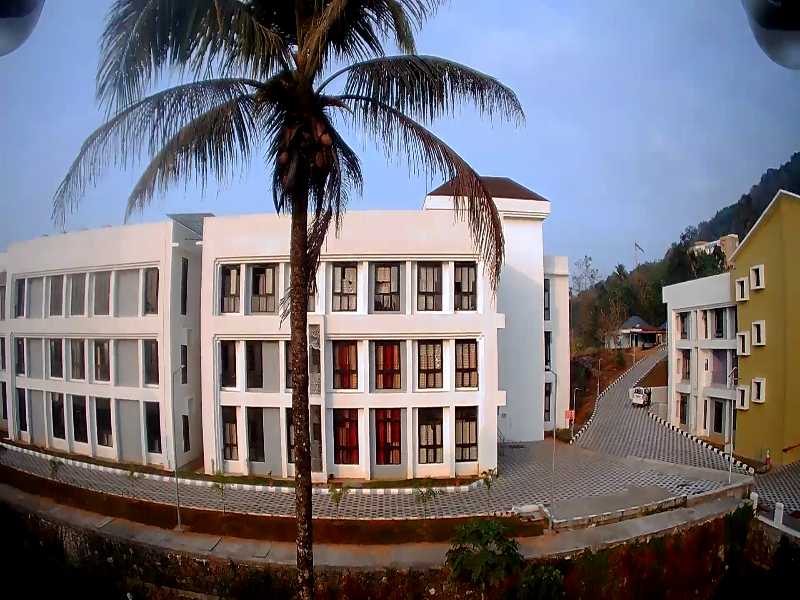coconut: (311, 152, 325, 166), (319, 133, 331, 147), (277, 150, 288, 165), (279, 176, 293, 187)
